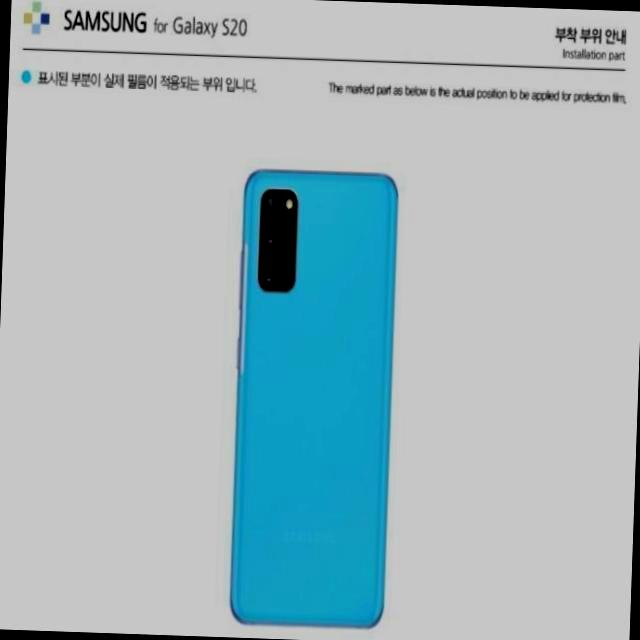lens: (259, 189, 298, 294)
phone: (228, 165, 399, 631)
